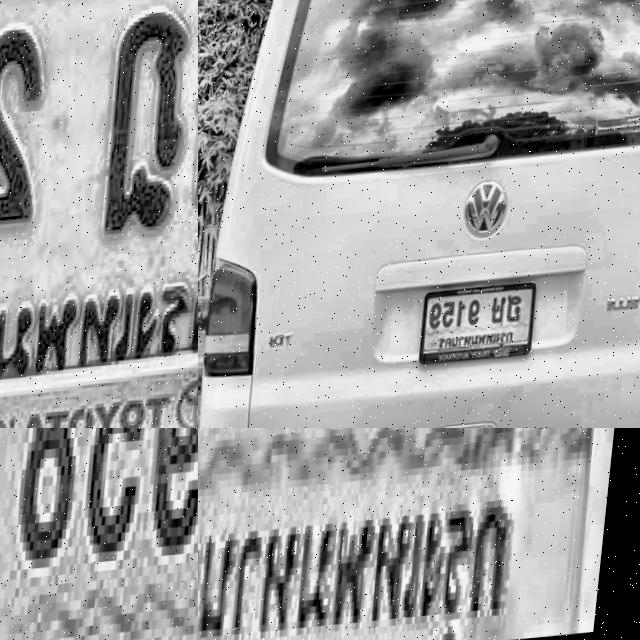license-plate: (198, 428, 640, 640), (0, 0, 198, 428), (0, 428, 198, 640), (423, 282, 547, 375)
